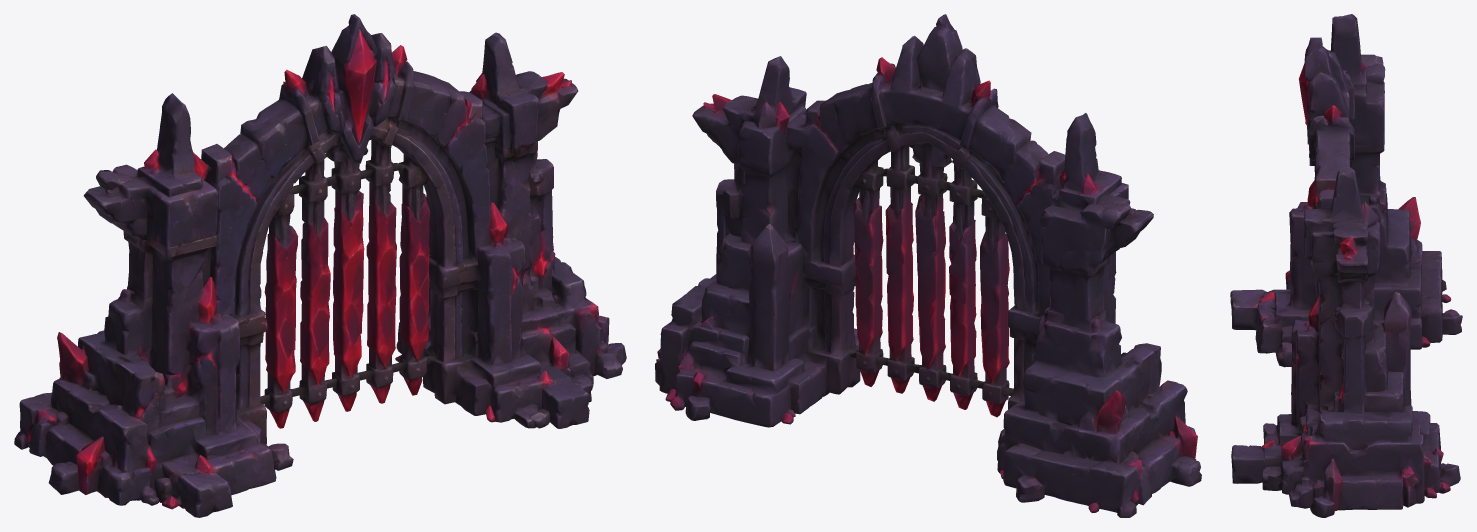
File: arena_gate.glb
The picture shows the model from 3 angles, left to right: view 1: azimuth 30°, elevation 25°; view 2: azimuth 150°, elevation 25°; view 3: azimuth 270°, elevation 25°; orthographic projection. The views are drawn at different scales.
Parts seen in each view (by area): view 1: tripo_node_da1b904b-a5b9-4103-aba2-1edfffc8bbc7; view 2: tripo_node_da1b904b-a5b9-4103-aba2-1edfffc8bbc7; view 3: tripo_node_da1b904b-a5b9-4103-aba2-1edfffc8bbc7.
Boxes of the visible parts, x1,y1,x2,y2 form: tripo_node_da1b904b-a5b9-4103-aba2-1edfffc8bbc7: [14, 14, 626, 517]; tripo_node_da1b904b-a5b9-4103-aba2-1edfffc8bbc7: [655, 14, 1201, 517]; tripo_node_da1b904b-a5b9-4103-aba2-1edfffc8bbc7: [1230, 14, 1462, 517].
Bounding box in the file's own units: 1 × 0.7131 × 0.4077.
1 material, 1 textured.
